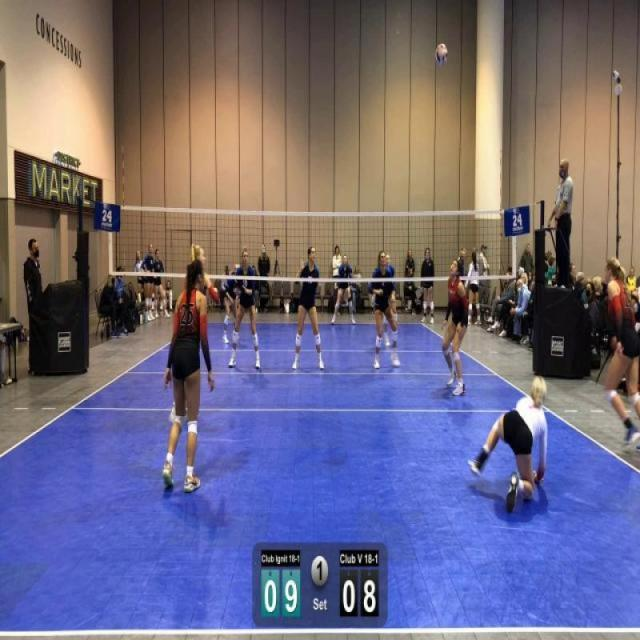volleyball: (435, 42, 448, 68)
